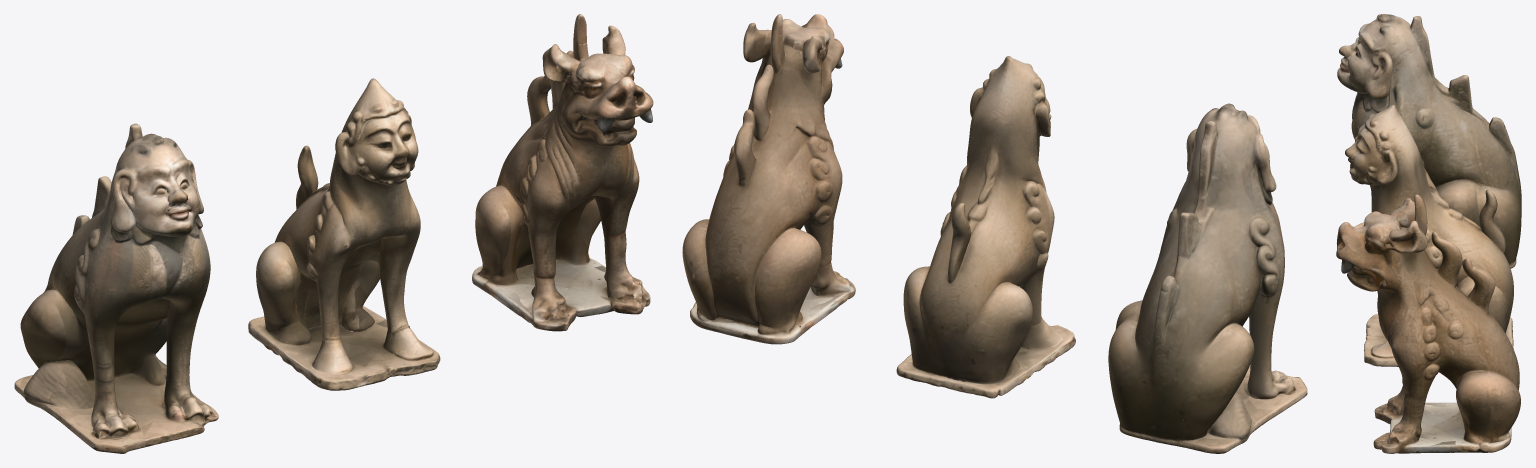
Rendered from guardians-desktop.glb.
3 renders of one model, left to right at view 1: azimuth 30°, elevation 25°; view 2: azimuth 150°, elevation 25°; view 3: azimuth 270°, elevation 25°, orthographic. The views are drawn at different scales.
Visible parts, largest first — view 1: A_P01_Body, B_P01_Body, C_P01_Body, C_P02_Head, A_P07_HindLeg_L, A_P02_Head, C_P07_HindLeg_L, A_P06_FrontLeg_R, B_P07_HindLeg_L, C_P05_FrontLeg_L, A_P05_FrontLeg_L, B_P05_FrontLeg_L (+13 smaller); view 2: A_P01_Body, B_P01_Body, C_P01_Body, C_P07_HindLeg_L, A_P07_HindLeg_L, B_P07_HindLeg_L, A_P02_Head, C_P02_Head, B_P02_Head, A_P05_FrontLeg_L, A_P09_Base, A_P08_HindLeg_R (+12 smaller); view 3: C_P01_Body, A_P01_Body, C_P08_HindLeg_R, B_P01_Body, A_P02_Head, C_P02_Head, A_P08_HindLeg_R, B_P02_Head, C_P06_FrontLeg_R, A_P11_Relief_R, C_P11_Relief_R, B_P08_HindLeg_R (+11 smaller).
Part boxes in pixels (bbox=[...]): A_P01_Body: bbox=[49, 187, 210, 408]; B_P01_Body: bbox=[284, 151, 420, 349]; C_P01_Body: bbox=[503, 81, 636, 299]; C_P02_Head: bbox=[543, 14, 653, 131]; A_P07_HindLeg_L: bbox=[20, 277, 94, 407]; A_P02_Head: bbox=[105, 139, 203, 234]; C_P07_HindLeg_L: bbox=[475, 165, 534, 310]; A_P06_FrontLeg_R: bbox=[133, 282, 214, 426]; B_P07_HindLeg_L: bbox=[249, 221, 310, 364]; C_P05_FrontLeg_L: bbox=[522, 181, 597, 324]; A_P05_FrontLeg_L: bbox=[74, 293, 161, 437]; B_P05_FrontLeg_L: bbox=[301, 234, 384, 382]; A_P01_Body: bbox=[1128, 171, 1284, 439]; B_P01_Body: bbox=[919, 117, 1053, 386]; C_P01_Body: bbox=[699, 78, 839, 333]; C_P07_HindLeg_L: bbox=[752, 198, 839, 335]; A_P07_HindLeg_L: bbox=[1177, 309, 1254, 439]; B_P07_HindLeg_L: bbox=[968, 249, 1053, 391]; A_P02_Head: bbox=[1185, 115, 1276, 202]; C_P02_Head: bbox=[743, 14, 843, 112]; B_P02_Head: bbox=[970, 76, 1051, 140]; A_P05_FrontLeg_L: bbox=[1237, 270, 1295, 398]; A_P09_Base: bbox=[1119, 366, 1307, 453]; A_P08_HindLeg_R: bbox=[1108, 300, 1142, 428]; C_P01_Body: bbox=[1347, 263, 1520, 434]; A_P01_Body: bbox=[1340, 78, 1521, 237]; C_P08_HindLeg_R: bbox=[1414, 348, 1520, 447]; B_P01_Body: bbox=[1349, 163, 1513, 344]; A_P02_Head: bbox=[1337, 23, 1435, 96]; C_P02_Head: bbox=[1336, 194, 1455, 278]; A_P08_HindLeg_R: bbox=[1430, 170, 1520, 263]; B_P02_Head: bbox=[1345, 125, 1422, 179]; C_P06_FrontLeg_R: bbox=[1374, 329, 1415, 448]; A_P11_Relief_R: bbox=[1404, 99, 1448, 157]; C_P11_Relief_R: bbox=[1403, 281, 1445, 337]; B_P08_HindLeg_R: bbox=[1436, 260, 1508, 332].
Bounding box in the file's own units: 2.08 × 1 × 0.7009.
33 materials, 33 textured.
